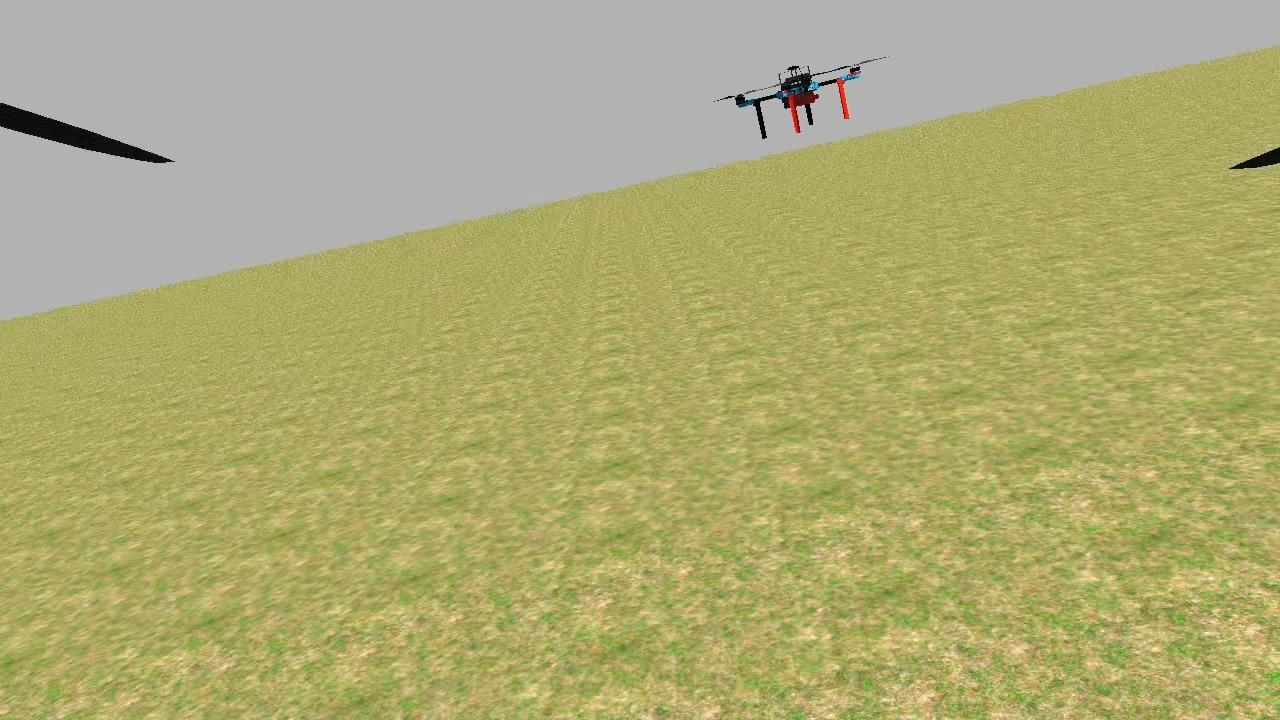UAV: (691, 43, 910, 154)
